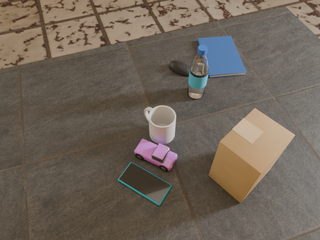book: (198, 36, 246, 78)
bottle: (188, 44, 210, 99)
box: (209, 108, 295, 203)
cup: (144, 106, 176, 144)
mouse: (169, 61, 190, 77)
phone: (118, 162, 172, 206)
toy_car: (134, 139, 177, 171)
